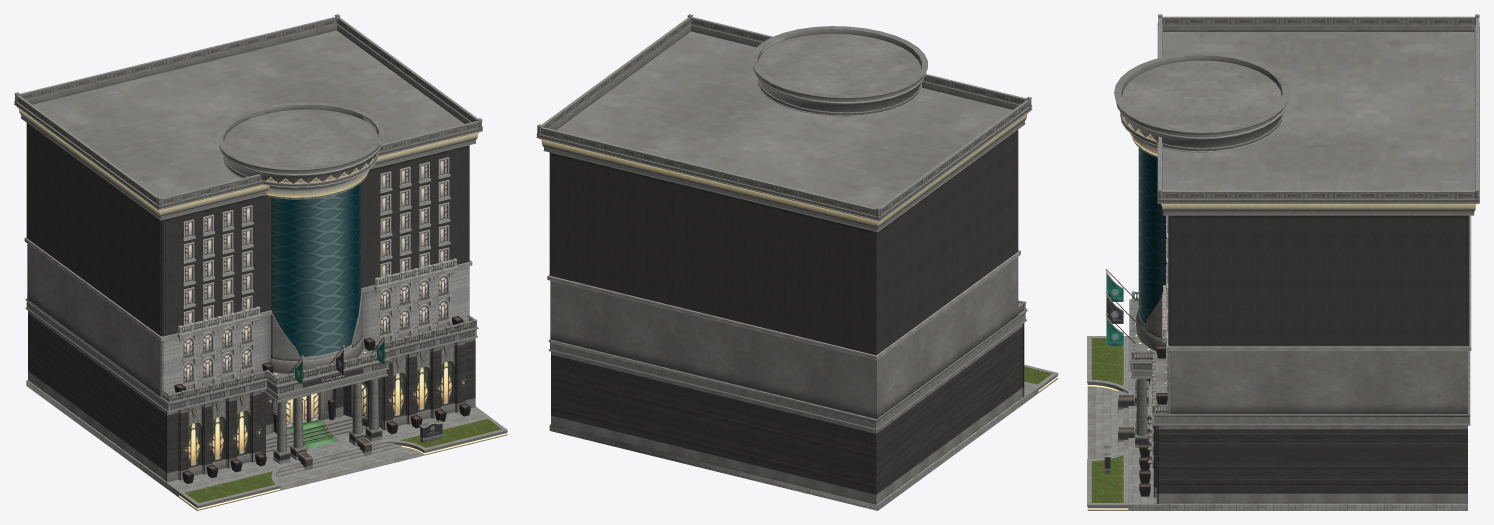
Rendered from t1_b_hotel_surreal.glb.
3 renders of one model, left to right at view 1: azimuth 30°, elevation 25°; view 2: azimuth 150°, elevation 25°; view 3: azimuth 270°, elevation 25°, orthographic. The views are drawn at different scales.
Visible parts, largest first — view 1: nomerge_buildingmesh; view 2: nomerge_buildingmesh; view 3: nomerge_buildingmesh, nomerge_flag.
Part boxes in pixels (x1,y1,x2,y2): nomerge_buildingmesh: (14, 14, 507, 510); nomerge_buildingmesh: (536, 14, 1058, 510); nomerge_buildingmesh: (1087, 14, 1479, 510); nomerge_flag: (1106, 271, 1123, 346).
Size of the model in its own units: 37.62 by 33.17 by 35.4.
7 materials, 7 textured.
